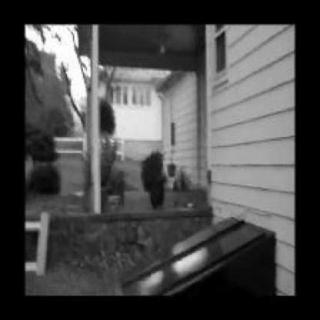other: (103, 166, 127, 206), (140, 150, 166, 168)
